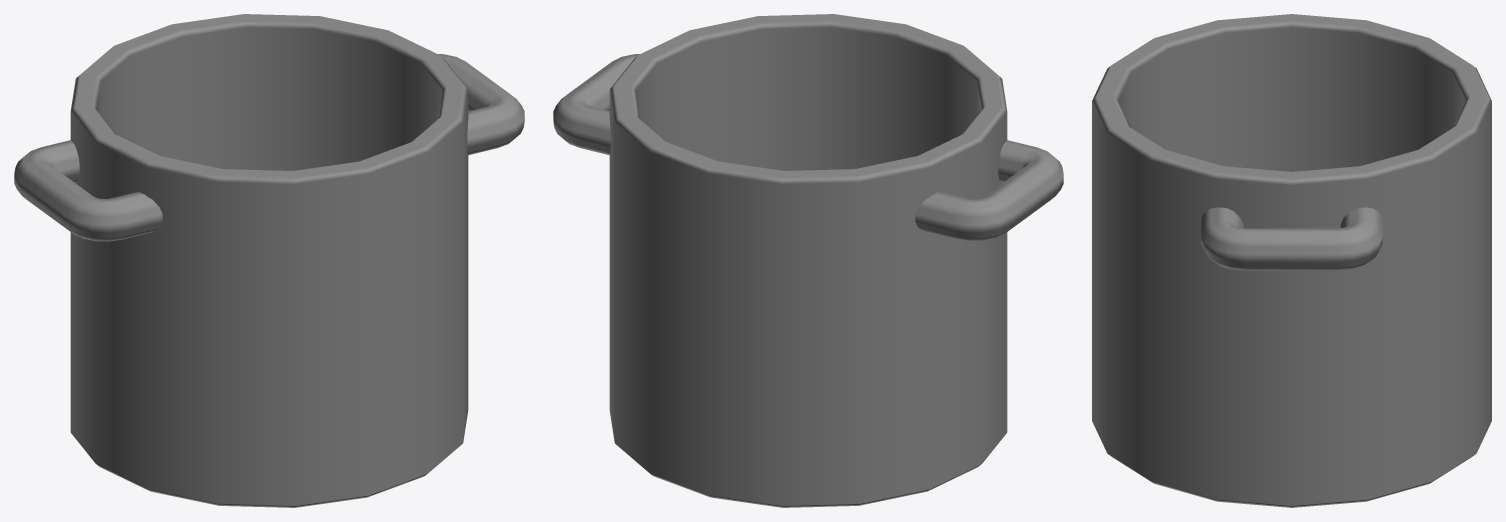
File: CookingPot.fbx
3 renders of one model, left to right at view 1: azimuth 30°, elevation 25°; view 2: azimuth 150°, elevation 25°; view 3: azimuth 270°, elevation 25°, orthographic.
Visible parts, largest first — view 1: Cylinder; view 2: Cylinder; view 3: Cylinder.
Boxes of the visible parts, x1=… form: Cylinder: x1=14, y1=14, x2=524, y2=507; Cylinder: x1=553, y1=14, x2=1063, y2=507; Cylinder: x1=1092, y1=14, x2=1491, y2=507.
Bounding box in the file's own units: 102 × 71.3 × 78.46.
